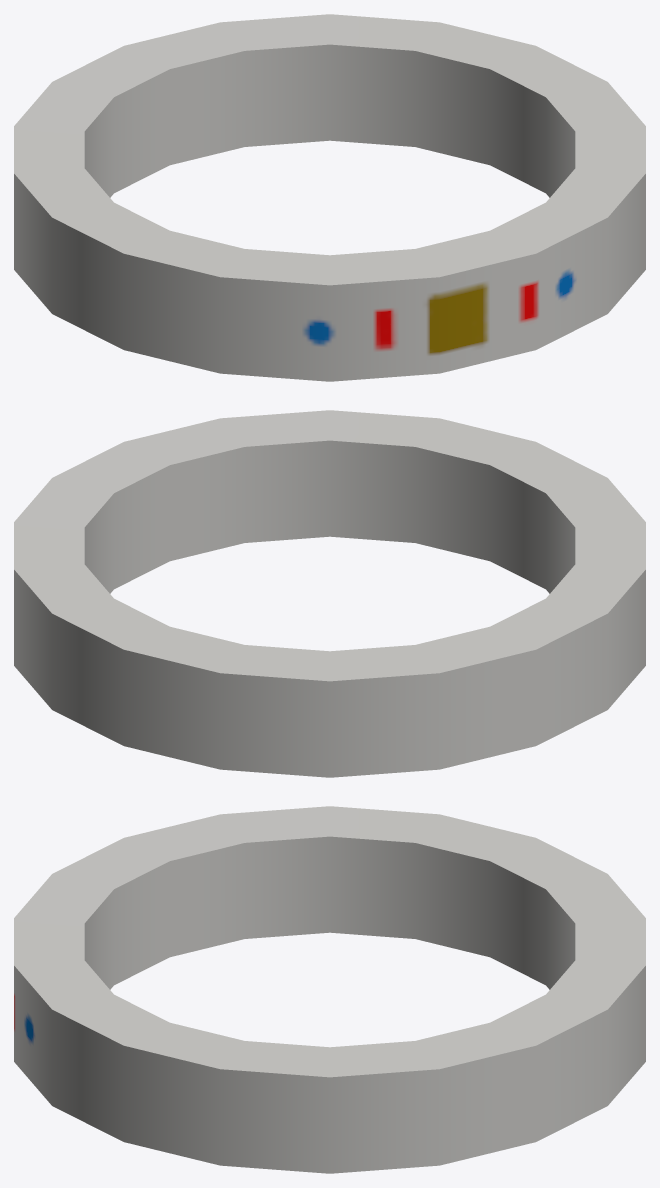
The model's file is All_2.DAE.
The picture shows the model from 3 angles, top to bottom: view 1: azimuth 30°, elevation 25°; view 2: azimuth 150°, elevation 25°; view 3: azimuth 270°, elevation 25°; orthographic projection.
Parts seen in each view (by area): view 1: skafandr_1; view 2: skafandr_1; view 3: skafandr_1.
Part boxes in pixels (x1,y1,x2,y2): skafandr_1: (14, 14, 645, 381); skafandr_1: (14, 410, 645, 777); skafandr_1: (14, 806, 645, 1173).
Bounding box in the file's own units: 52.64 × 8.73 × 51.84.
